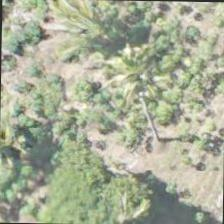Kelapa_Sawit: (98, 36, 190, 128), (53, 0, 145, 86), (0, 94, 51, 186)
